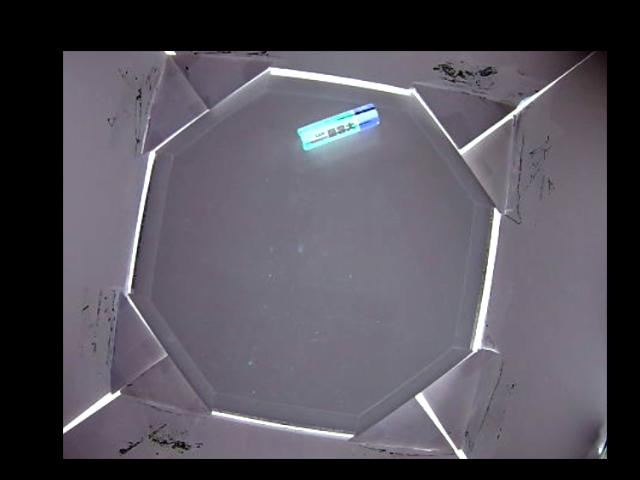Battery: (296, 102, 380, 149)
